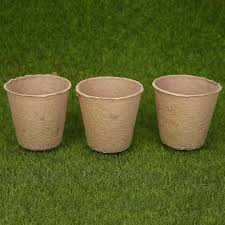cup: (76, 74, 145, 156), (152, 74, 221, 153), (5, 74, 73, 153)
